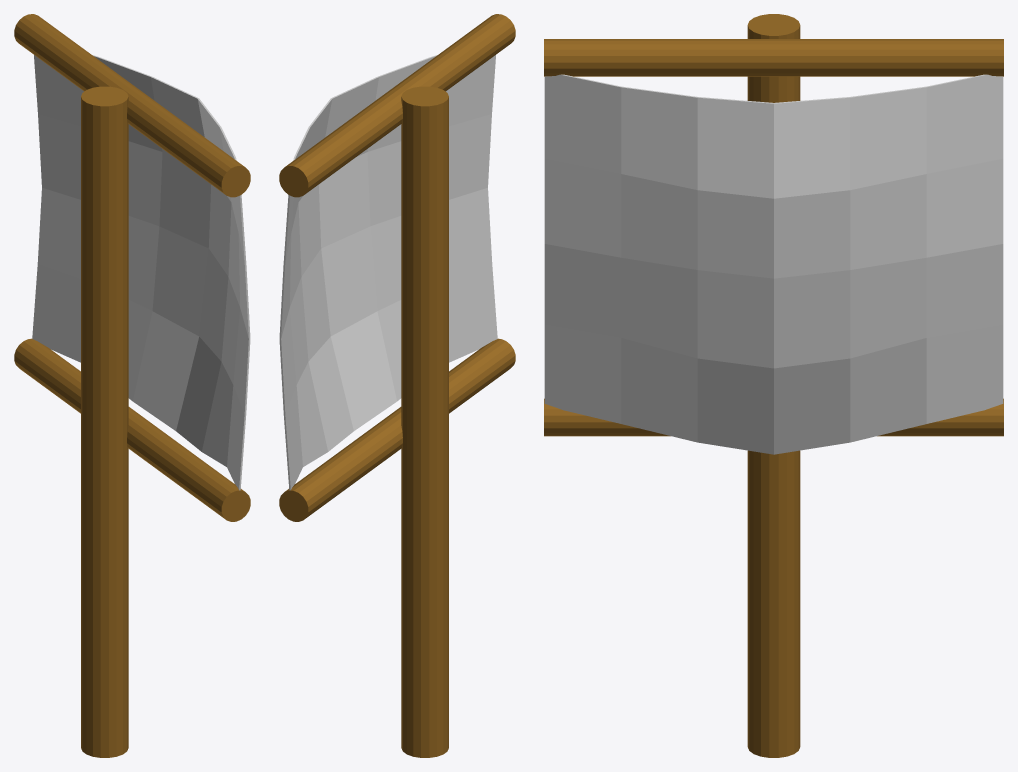
The model's file is Sail.fbx.
The picture shows the model from 3 angles, left to right: view 1: azimuth 30°, elevation 25°; view 2: azimuth 150°, elevation 25°; view 3: azimuth 270°, elevation 25°; orthographic projection. The views are drawn at different scales.
Visible parts, largest first — view 1: Sail, Post, SailSuppT, SailSuppB; view 2: Sail, Post, SailSuppT, SailSuppB; view 3: Sail, Post, SailSuppT, SailSuppB.
Part boxes in pixels (<box>): Sail: <box>32,55,250,490</box>; Post: <box>81,86,128,757</box>; SailSuppT: <box>14,14,250,197</box>; SailSuppB: <box>14,338,250,521</box>; Sail: <box>279,55,497,490</box>; Post: <box>401,86,448,757</box>; SailSuppT: <box>279,14,515,197</box>; SailSuppB: <box>279,338,515,521</box>; Sail: <box>544,74,1003,454</box>; Post: <box>747,14,800,757</box>; SailSuppT: <box>544,39,1003,76</box>; SailSuppB: <box>544,398,1003,436</box>.
Bounding box in the file's own units: 94.61 × 458 × 264.
